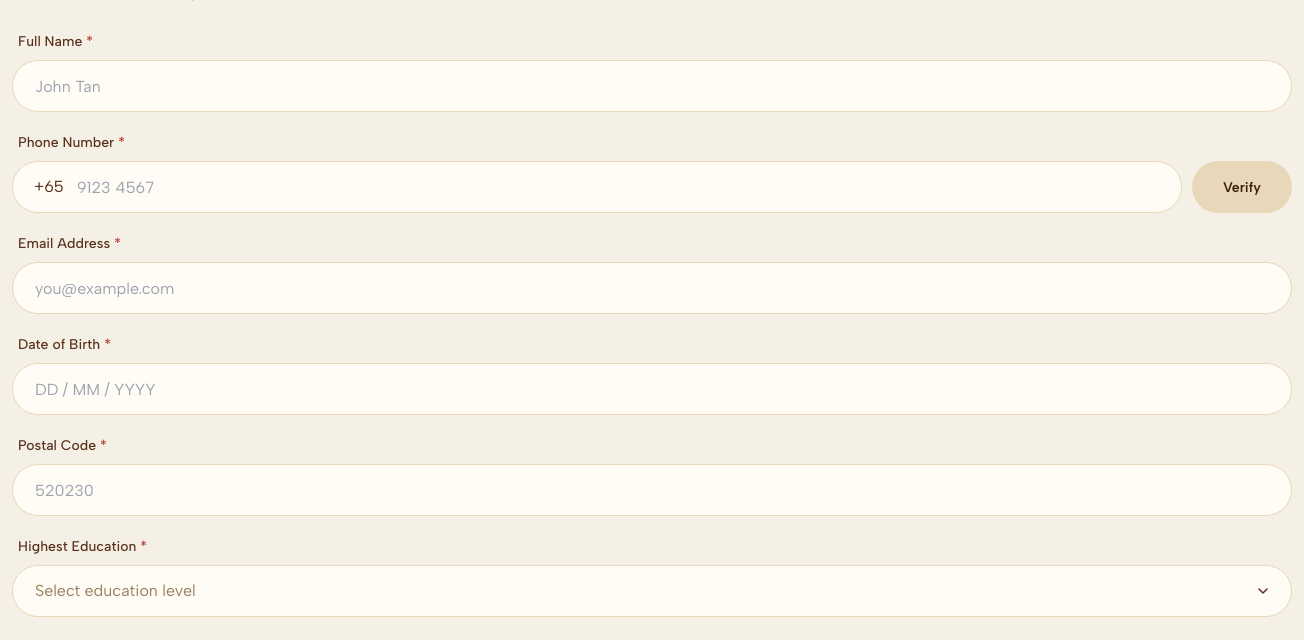
Test case: CampaignSignupForm — validation errors are announced › renders the form-level error in a live alert region
Type "11234567" into the field with placeholder "9123 4567" at (597,187), box x1=12 y1=161 x2=1182 y2=213
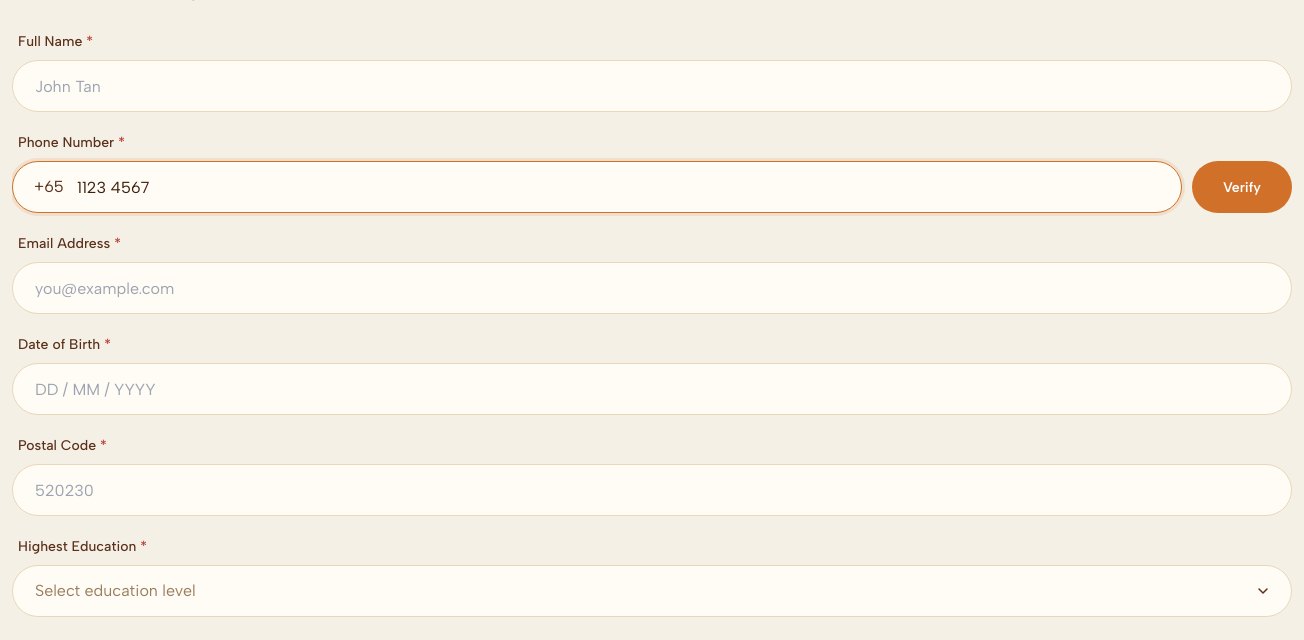
Click the button "Verify" at (1242,187), box x1=1192 y1=161 x2=1292 y2=213
(page scrolled)
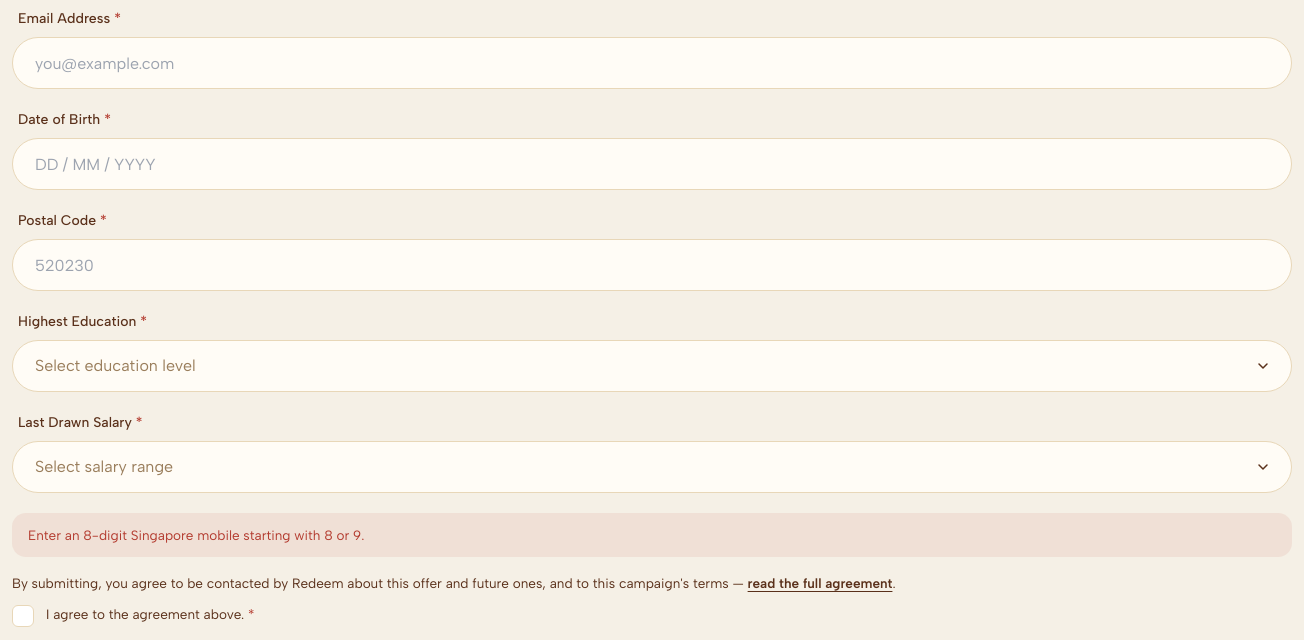
Now the message "Enter an 8-digit Singapore mobile starting with 8 or 9." is shown, box x1=12 y1=513 x2=1292 y2=557
Now the message reads "Enter an 8-digit Singapore mobile starting with 8 or 9.", box x1=28 y1=527 x2=364 y2=543
